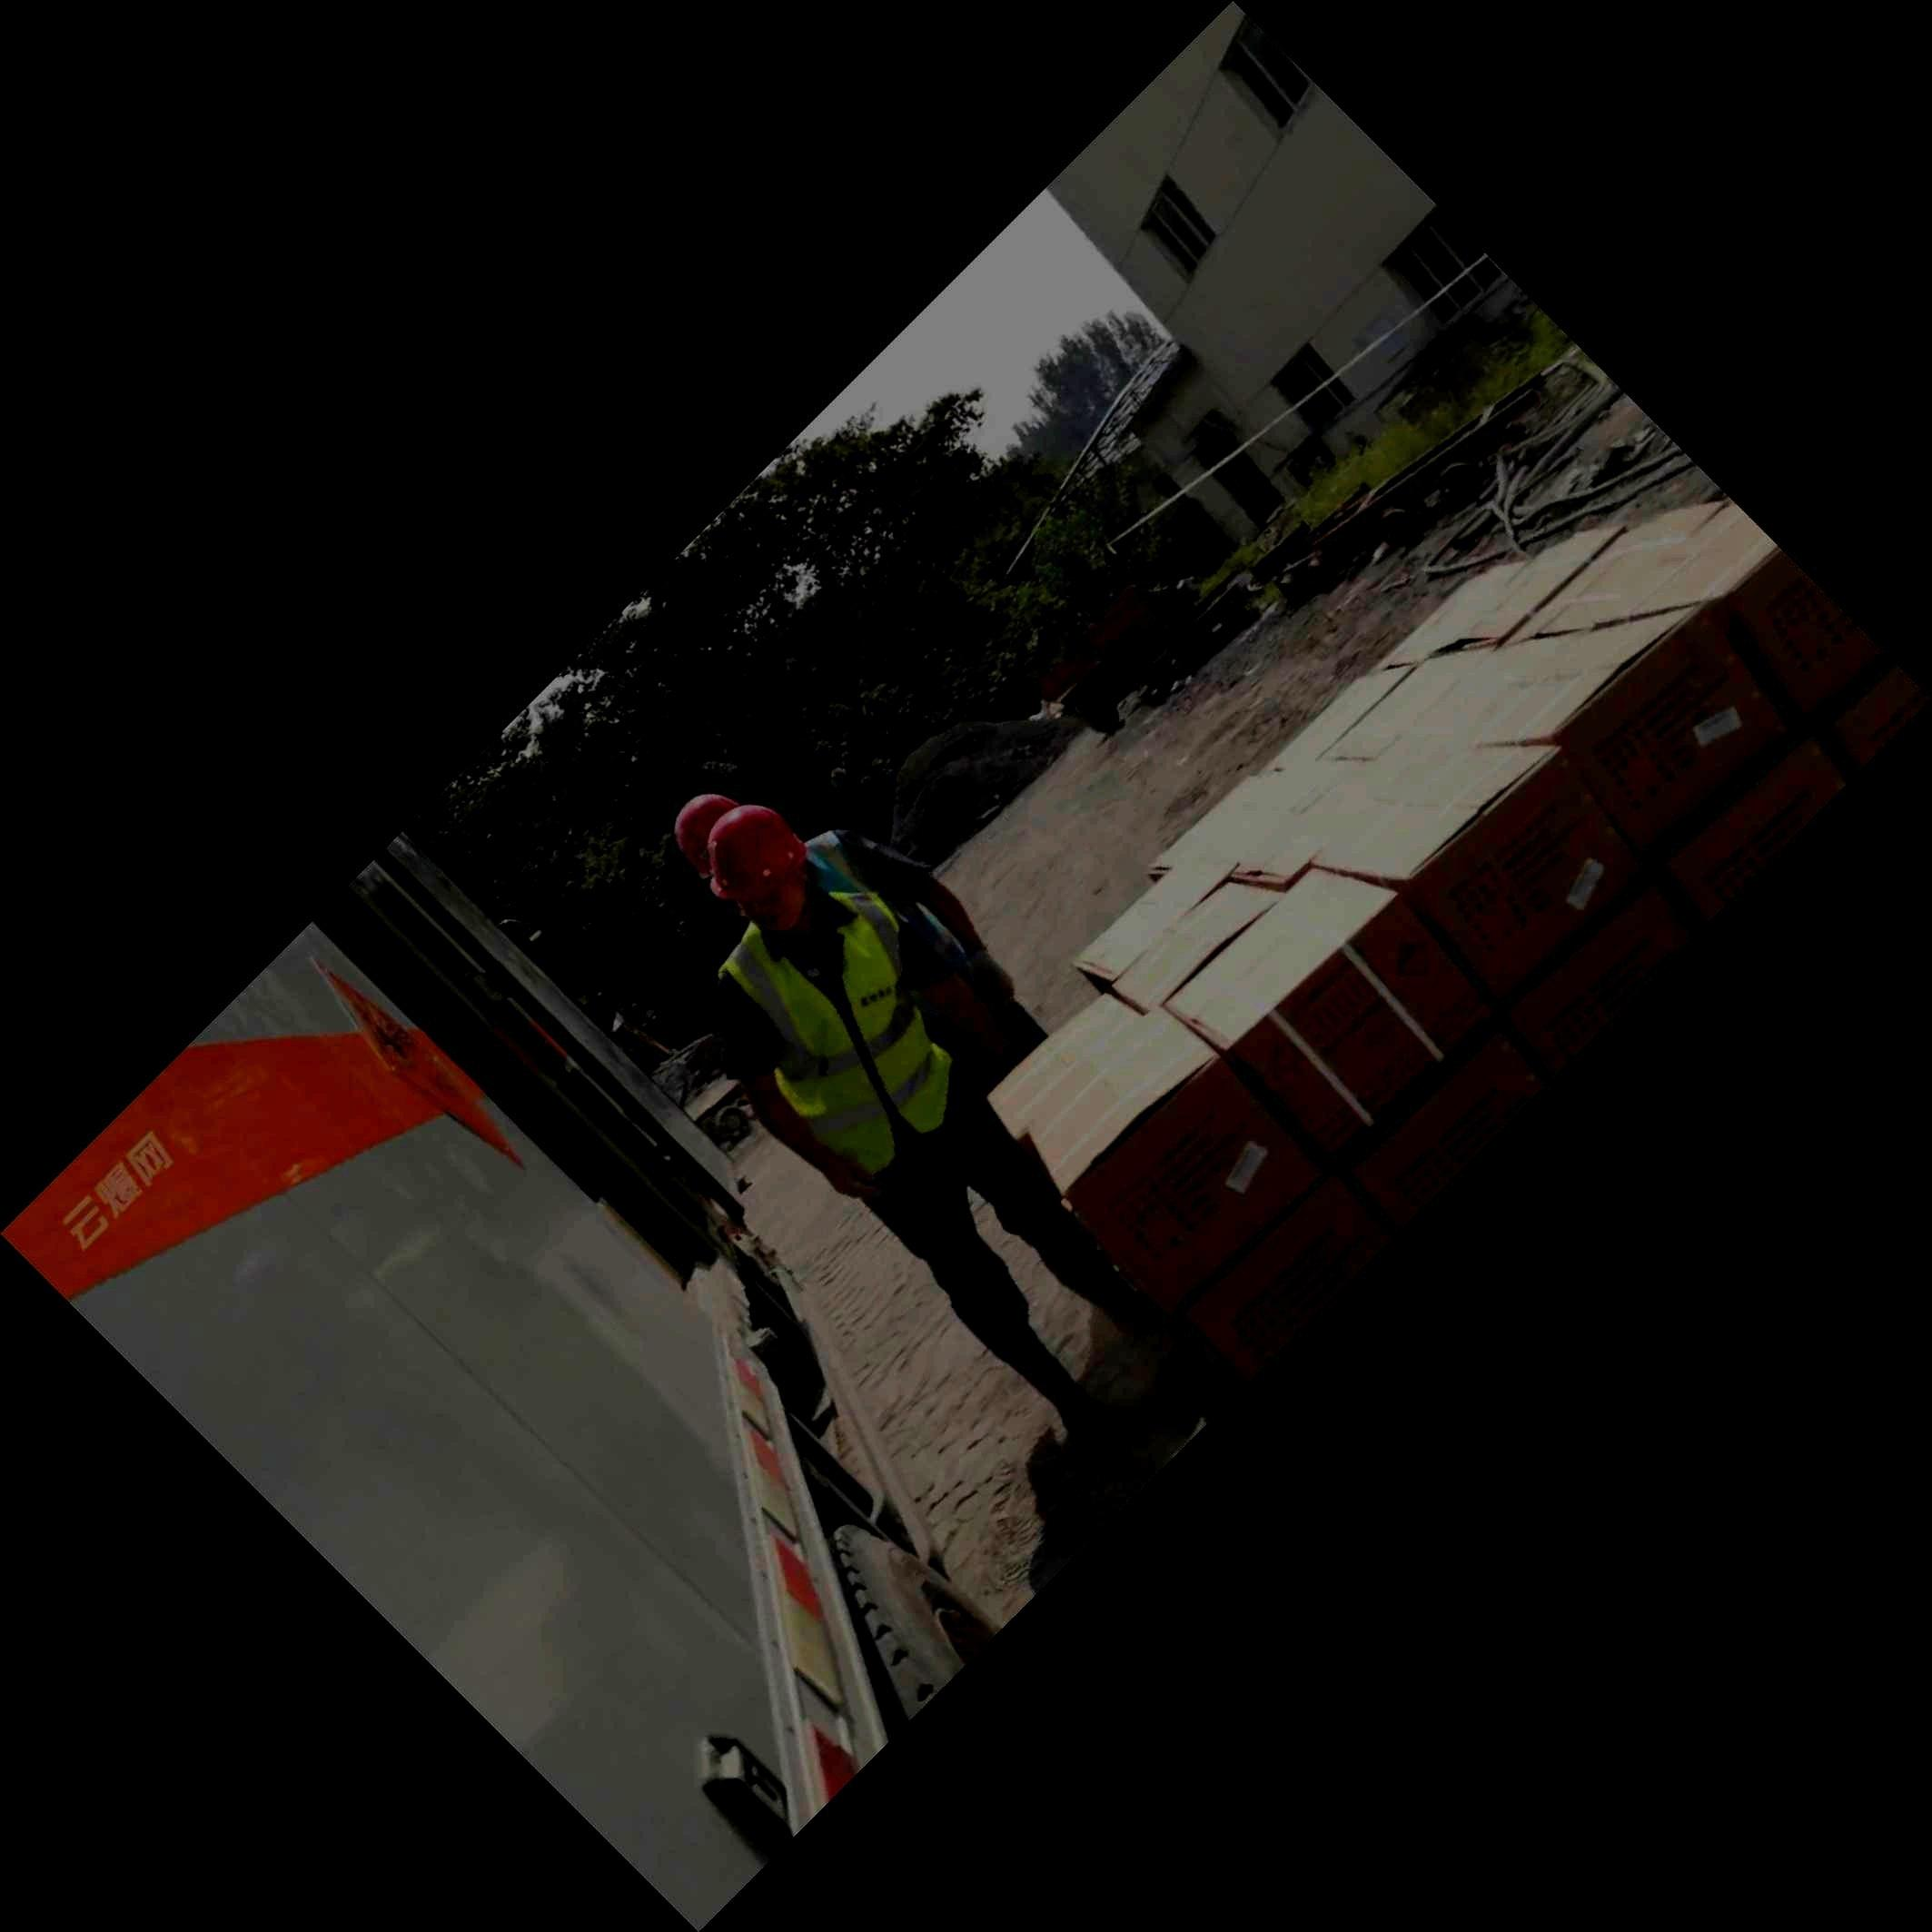helmet: (708, 805, 809, 931), (674, 793, 743, 878)
